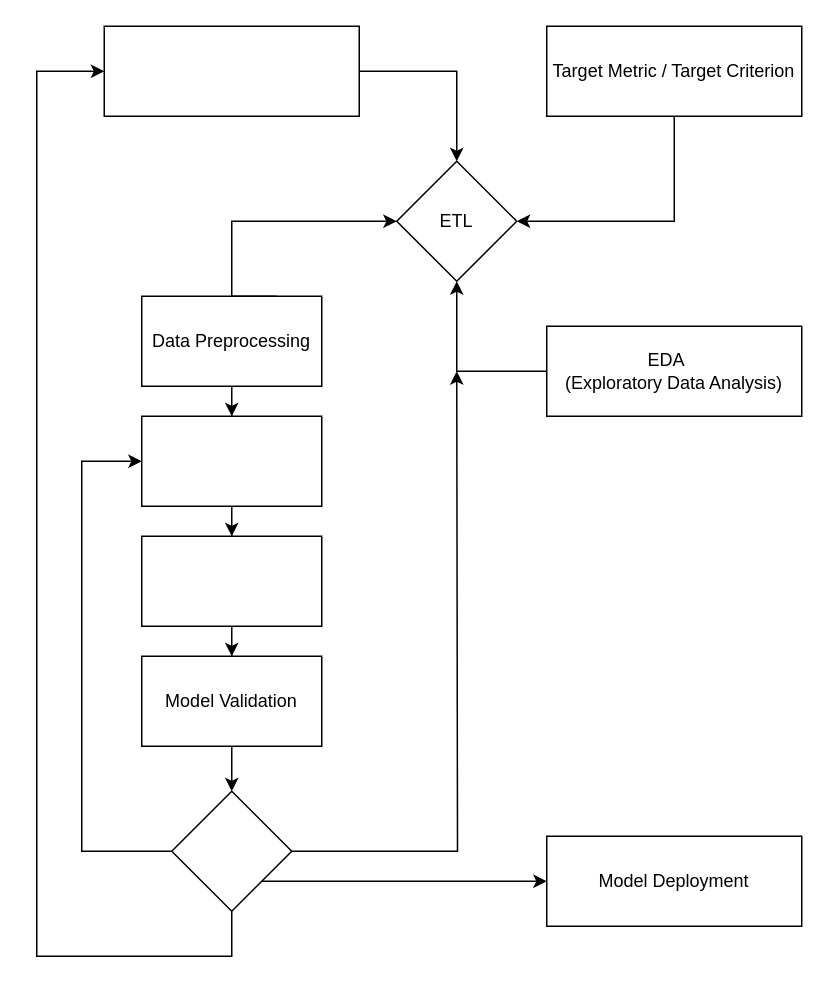
Some shapes in this 828 by 995 pixel diagram are drawn without their labels. Here are the shapes that lost their labels. From the top down, the centre of each, then its label:
pixel 231 70: Data Source / Data Set
pixel 231 460: Model selection
pixel 231 580: Fitting / Leaning
